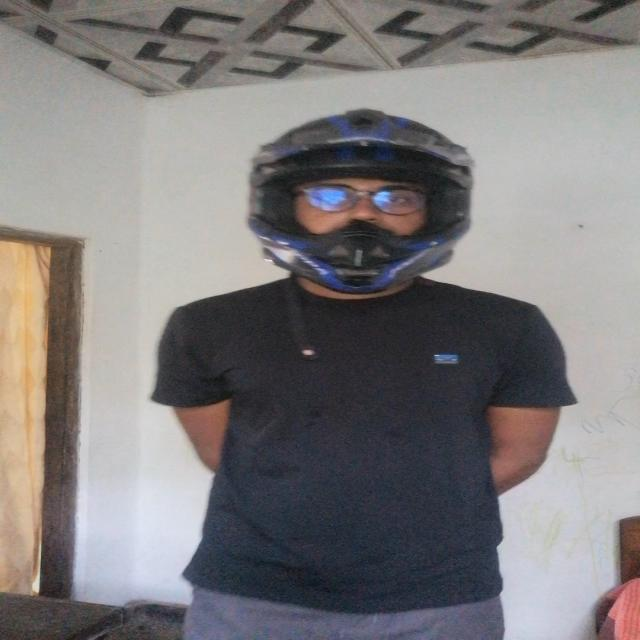Helmet_Wearer: (225, 95, 480, 306)
